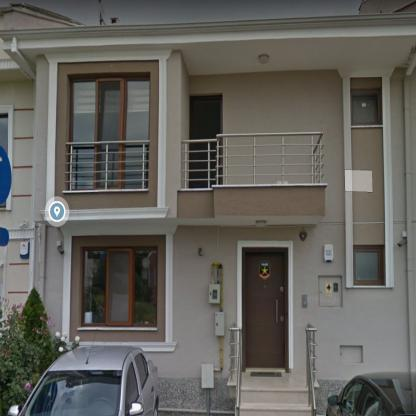door: (242, 247, 288, 368), (189, 95, 222, 187)
window: (69, 80, 148, 190), (80, 246, 158, 328), (355, 248, 382, 283), (350, 93, 378, 125), (0, 113, 6, 151)
